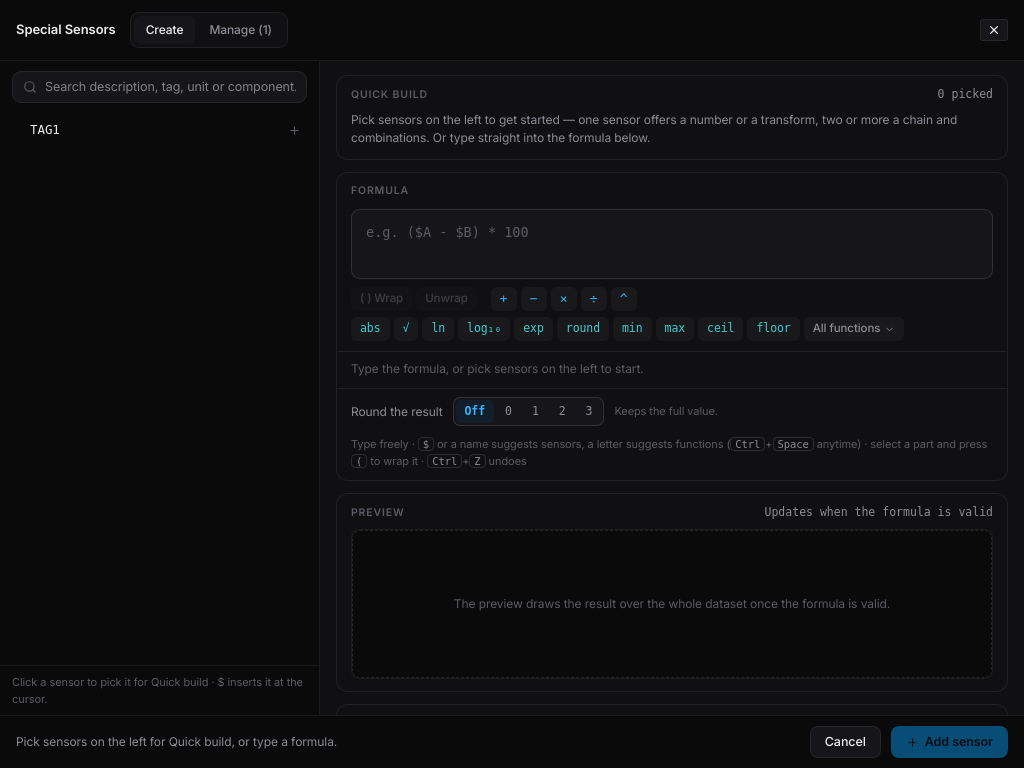
Test: AddSensorWindow › lists the special sensors the Dashboard sent, and only those
Click the tab "Manage (1)": (241, 30) [197,16,284,44]
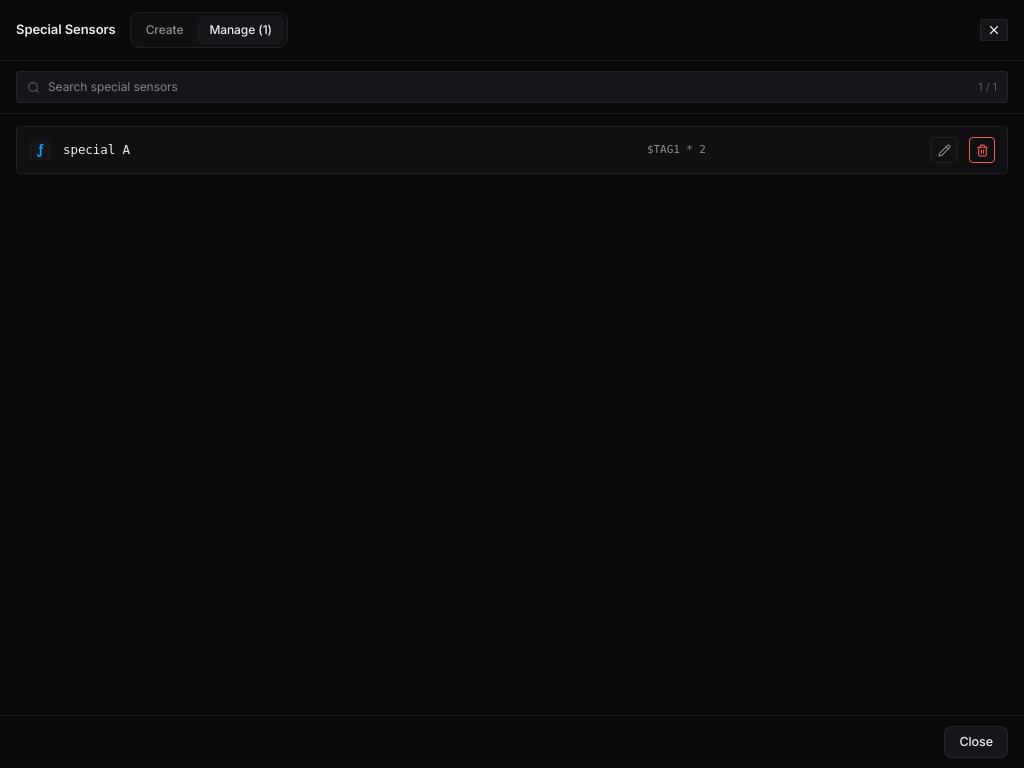
Now the text "special A" is shown, box [63,141,130,159]
